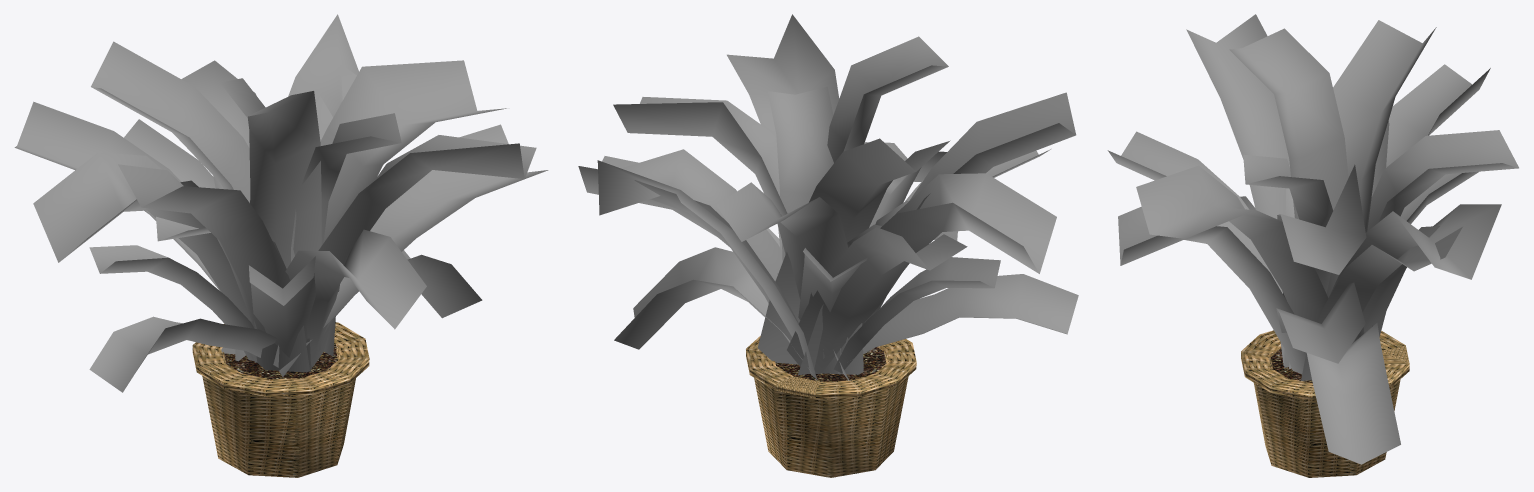
Rendered from Fern_leaf_grass_lod1.fbx.
3 views of the same model, side by side, from view 1: azimuth 30°, elevation 25°; view 2: azimuth 150°, elevation 25°; view 3: azimuth 270°, elevation 25° (orthographic). The views are drawn at different scales.
Parts seen in each view (by area): view 1: Fern_leaf_grass_lod1; view 2: Fern_leaf_grass_lod1; view 3: Fern_leaf_grass_lod1.
Part boxes in pixels (box(x1,y1,x2,y2)): Fern_leaf_grass_lod1: box(14, 14, 548, 477); Fern_leaf_grass_lod1: box(578, 14, 1078, 477); Fern_leaf_grass_lod1: box(1107, 14, 1518, 477).
Size of the model in its own units: 56 by 46.17 by 44.09.
2 materials, 1 textured.
